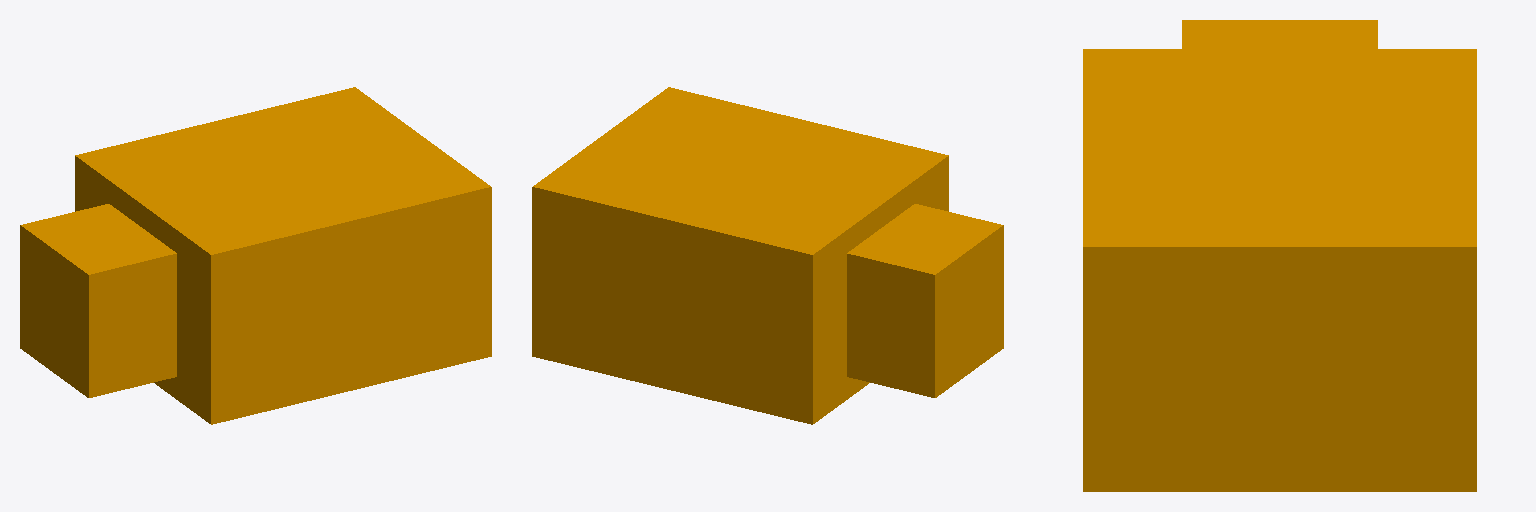
The robot description file, URDF, robot "iec_c13":
<?xml version="1.0"?>
<robot name="iec_c13">
  <link name="iec_c13">
    <visual><geometry><mesh filename="iec_c13_visual.obj"/></geometry></visual>
    <collision><geometry><mesh filename="iec_c13_hull.obj"/></geometry></collision>
  </link>
</robot>

--- Render facts (derived) ---
Views: 3 orthographic renders of the robot side by side, from view 1: azimuth 30°, elevation 25°; view 2: azimuth 150°, elevation 25°; view 3: azimuth 270°, elevation 25°.
Model iec_c13 with 1 links and 0 joints (none), rooted at iec_c13, posed all joints at 0.
Visible links, largest first — view 1: iec_c13; view 2: iec_c13; view 3: iec_c13.
Boxes of the visible links, x1,y1,x2,y2 form: iec_c13: (20,87,491,424); iec_c13: (532,87,1003,424); iec_c13: (1083,20,1476,491).
Bounding box of the posed robot: 0.05 × 0.032 × 0.022 m (x, y, z).
1 mesh visuals loaded from 1 distinct referenced files (1 OBJ).
